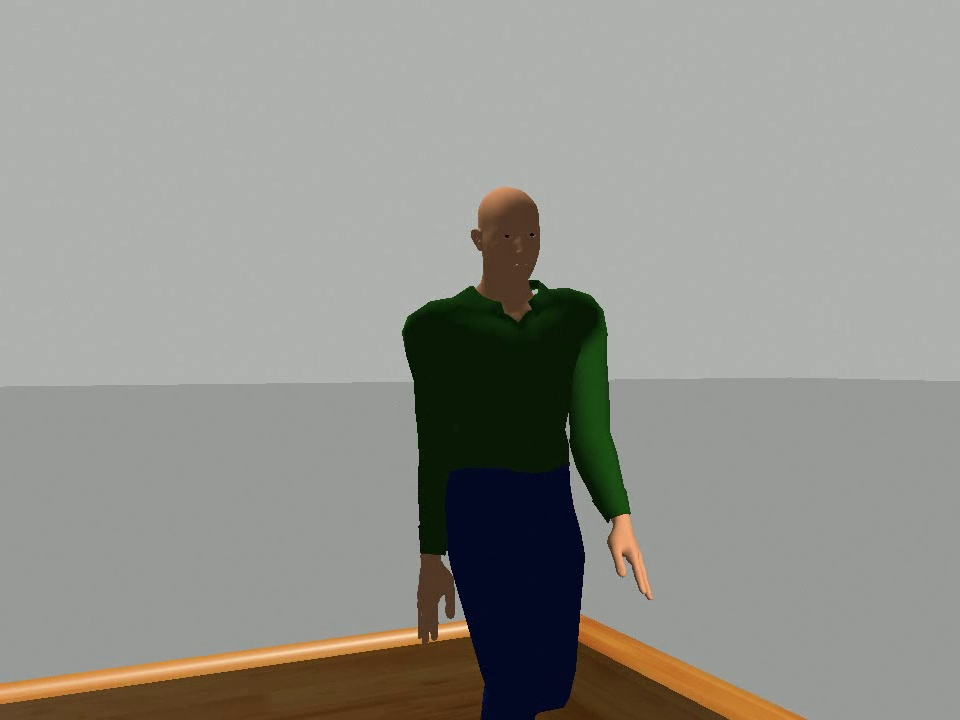person: (400, 183, 657, 720)
